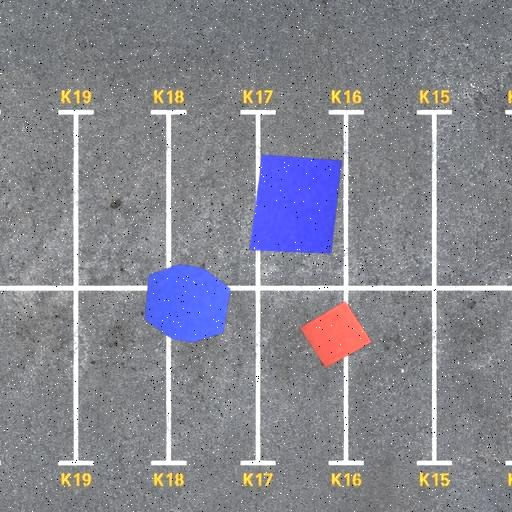BLUE_SQUARE: (249, 154, 342, 254)
RED_SQUARE: (298, 300, 373, 369)
